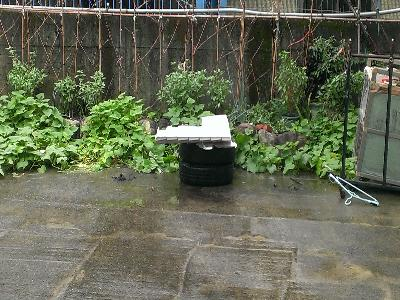tire: (179, 140, 237, 167), (177, 161, 236, 187)
